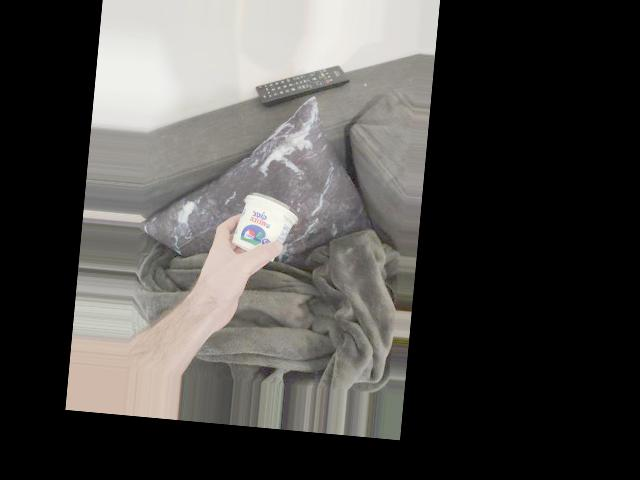cotage: (222, 183, 302, 271)
